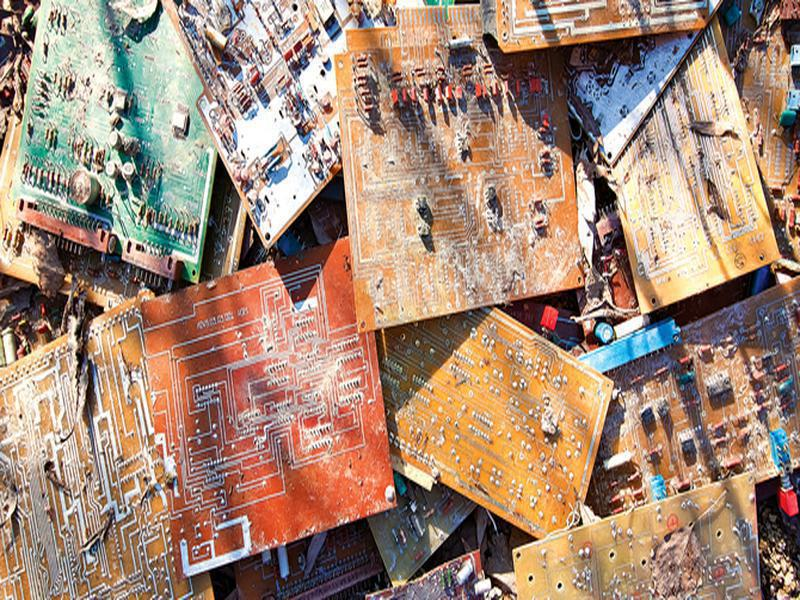circuit_board: (329, 8, 603, 334), (143, 234, 402, 576), (1, 291, 218, 600), (13, 1, 226, 283), (375, 307, 619, 540), (597, 23, 790, 315), (580, 275, 800, 521), (157, 1, 353, 248)
